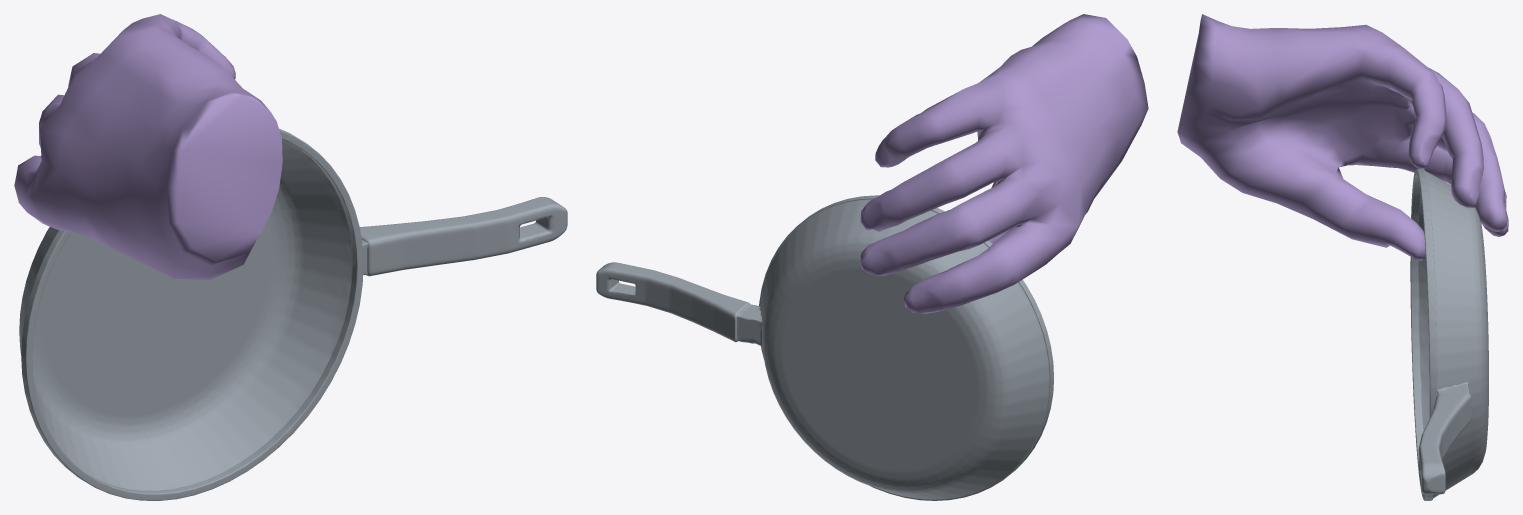
Rendered from ours_0.glb.
3 views of the same model, side by side, from view 1: azimuth 30°, elevation 25°; view 2: azimuth 150°, elevation 25°; view 3: azimuth 270°, elevation 25° (orthographic). The views are drawn at different scales.
Bounding box in the file's own units: 0.2411 × 0.2125 × 0.1494.
